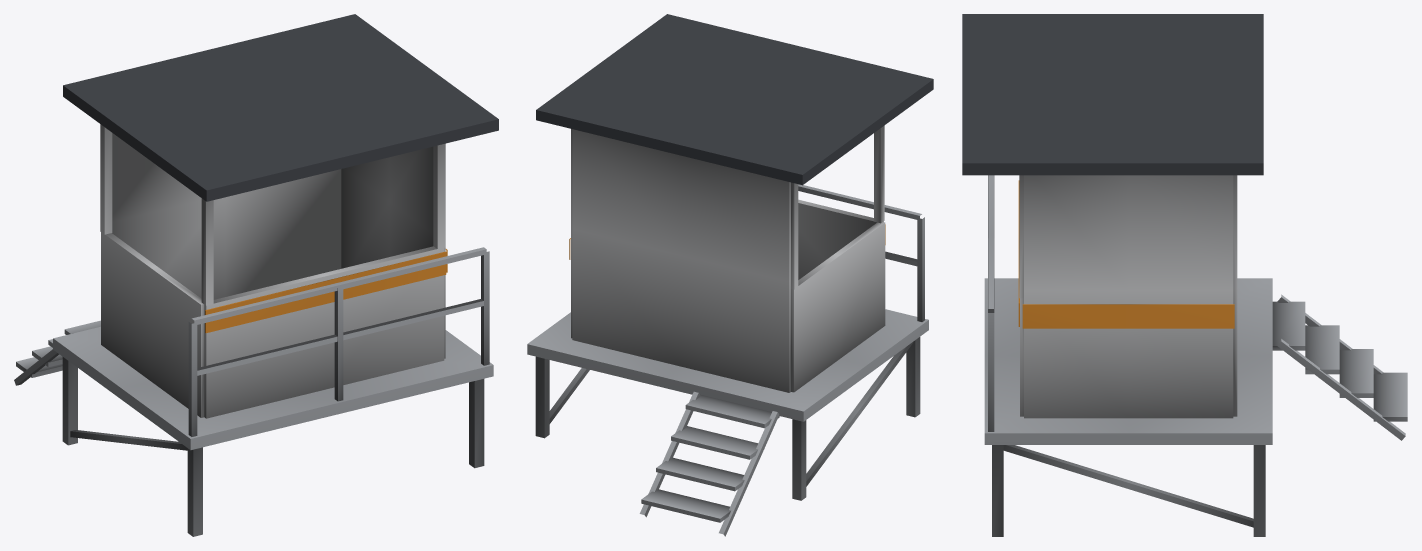
Rendered from marshal_post.glb.
The picture shows the model from 3 angles, left to right: view 1: azimuth 30°, elevation 25°; view 2: azimuth 150°, elevation 25°; view 3: azimuth 270°, elevation 25°; orthographic projection. The views are drawn at different scales.
Visible parts, largest first — view 1: marshal_post; view 2: marshal_post; view 3: marshal_post.
Part boxes in pixels (<box>): marshal_post: <box>14,14,498,536</box>; marshal_post: <box>527,14,933,536</box>; marshal_post: <box>962,14,1407,536</box>.
Size of the model in its own units: 2.8 by 3.15 by 3.4.
